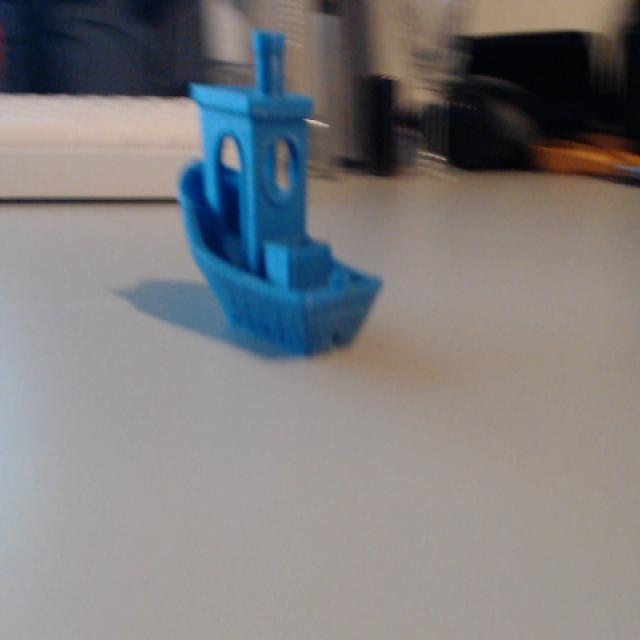benchy: (174, 25, 385, 358)
